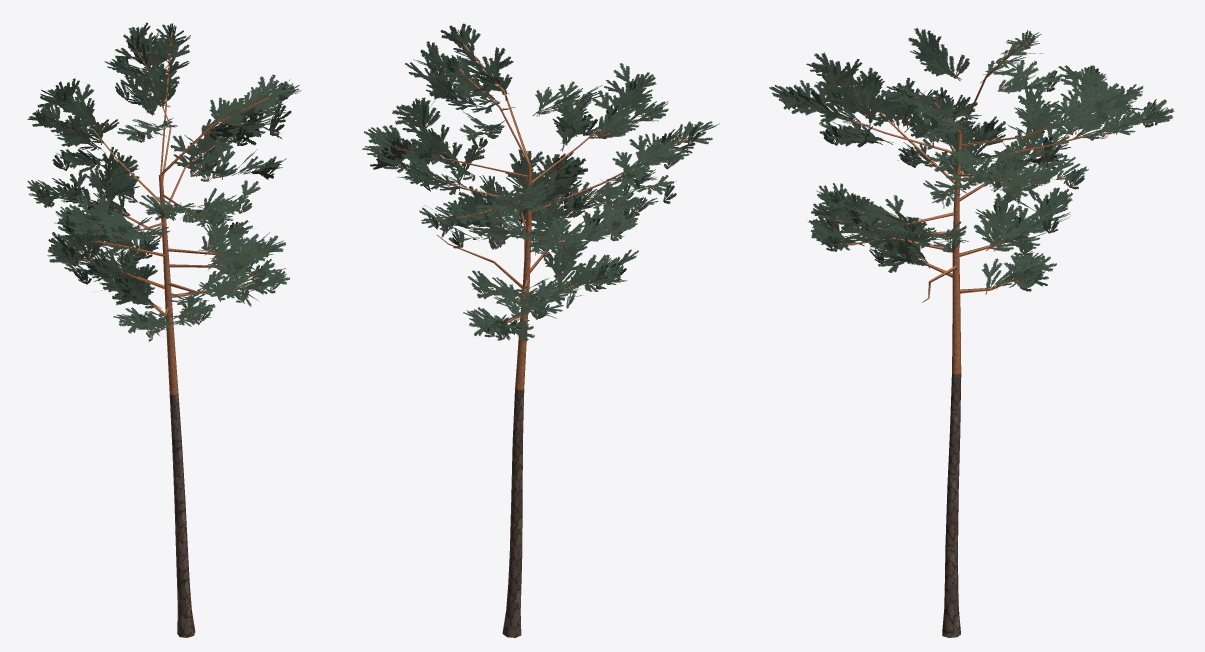
File: pine_b_LOD1.glb
3 views of the same model, side by side, from view 1: azimuth 30°, elevation 25°; view 2: azimuth 150°, elevation 25°; view 3: azimuth 270°, elevation 25° (orthographic). The views are drawn at different scales.
Visible parts, largest first — view 1: Pine_B_LOD1_Foliage, Pine_B_LOD1_Bark; view 2: Pine_B_LOD1_Foliage, Pine_B_LOD1_Bark; view 3: Pine_B_LOD1_Foliage, Pine_B_LOD1_Bark.
Boxes of the visible parts, x1,y1,x2,y2 form: Pine_B_LOD1_Foliage: [27, 22, 301, 341]; Pine_B_LOD1_Bark: [65, 31, 285, 637]; Pine_B_LOD1_Foliage: [362, 23, 719, 341]; Pine_B_LOD1_Bark: [396, 43, 692, 637]; Pine_B_LOD1_Foliage: [769, 28, 1174, 294]; Pine_B_LOD1_Bark: [812, 38, 1160, 637].
Size of the model in its own units: 8.37 by 17.8 by 11.19.
2 materials, 2 textured.
